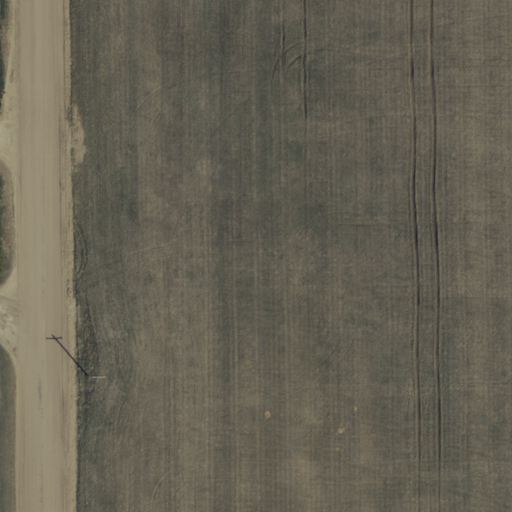DT: (81, 365, 110, 391)
